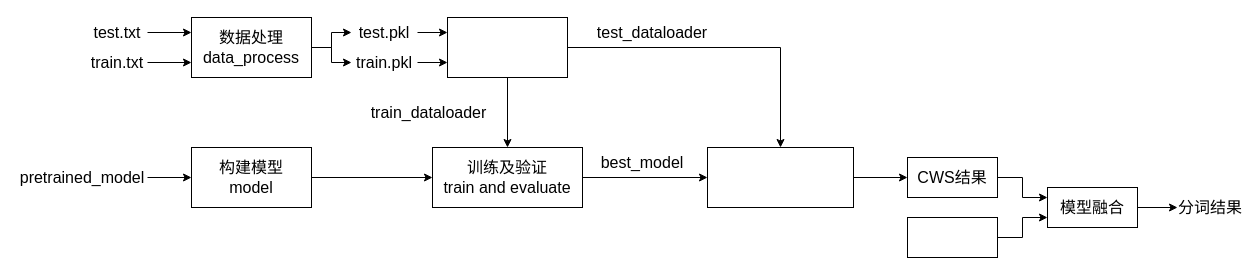
Image size: 1260x275. Some labels were removed from this diagram. Here are the shapes that lost their labels. From the top down, the box of each, then its label:
(446, 16, 568, 78): 数据加载 data_loader
(706, 146, 854, 208): 测试 inference and test
(906, 216, 998, 258): NER结果
